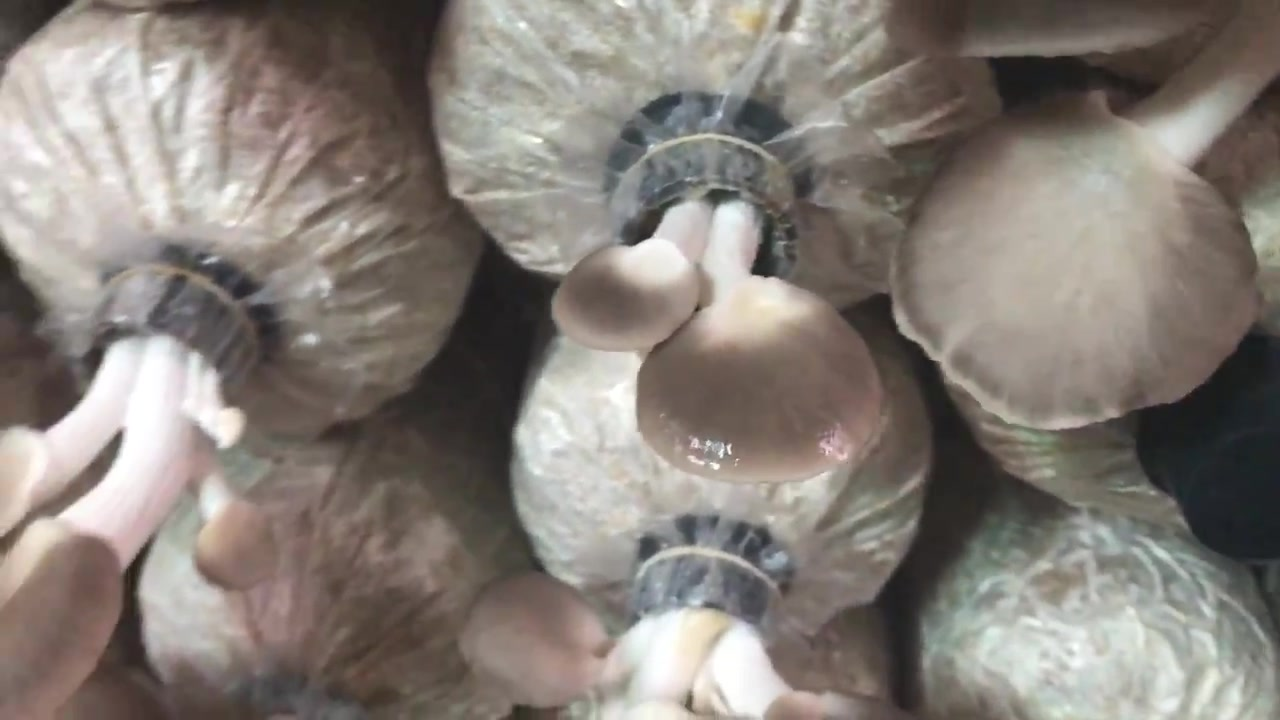nam: (888, 1, 1280, 445), (1, 255, 280, 716), (552, 132, 888, 491), (457, 527, 905, 720)
